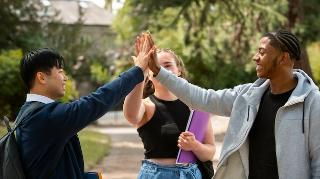person - v3 P: (149, 30, 319, 178), (16, 40, 149, 178), (124, 72, 215, 178)
